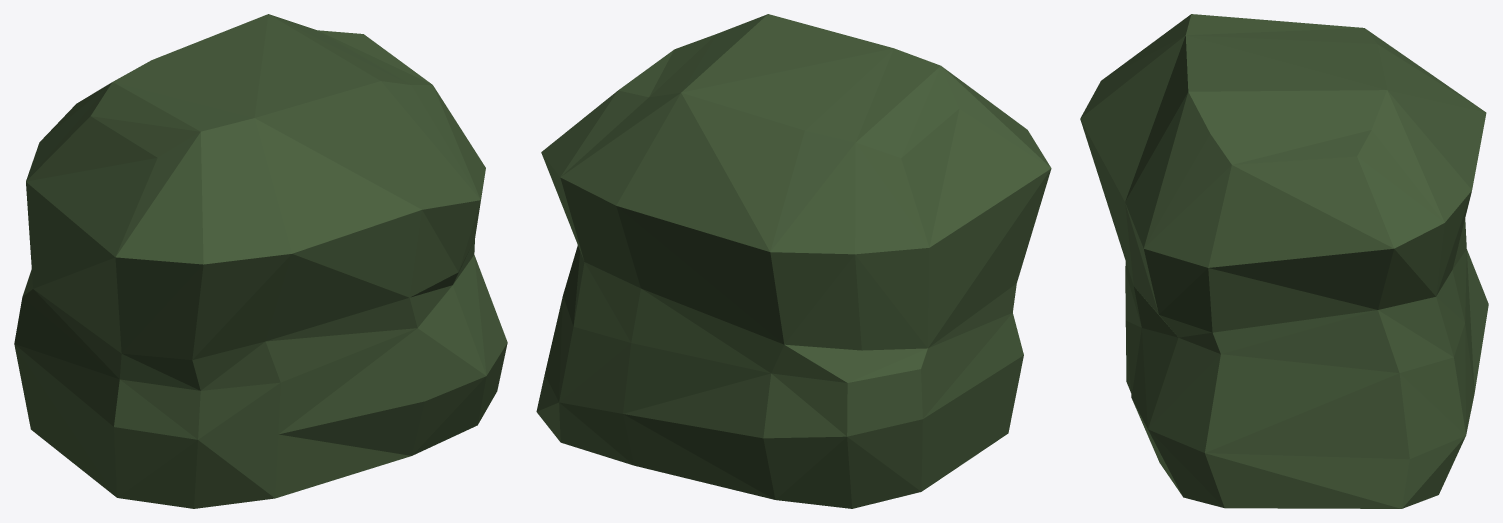
File: crop_strawberry.s2.glb
3 renders of one model, left to right at view 1: azimuth 30°, elevation 25°; view 2: azimuth 150°, elevation 25°; view 3: azimuth 270°, elevation 25°, orthographic. The views are drawn at different scales.
Bounding box in the file's own units: 0.3446 × 0.2942 × 0.2995.
